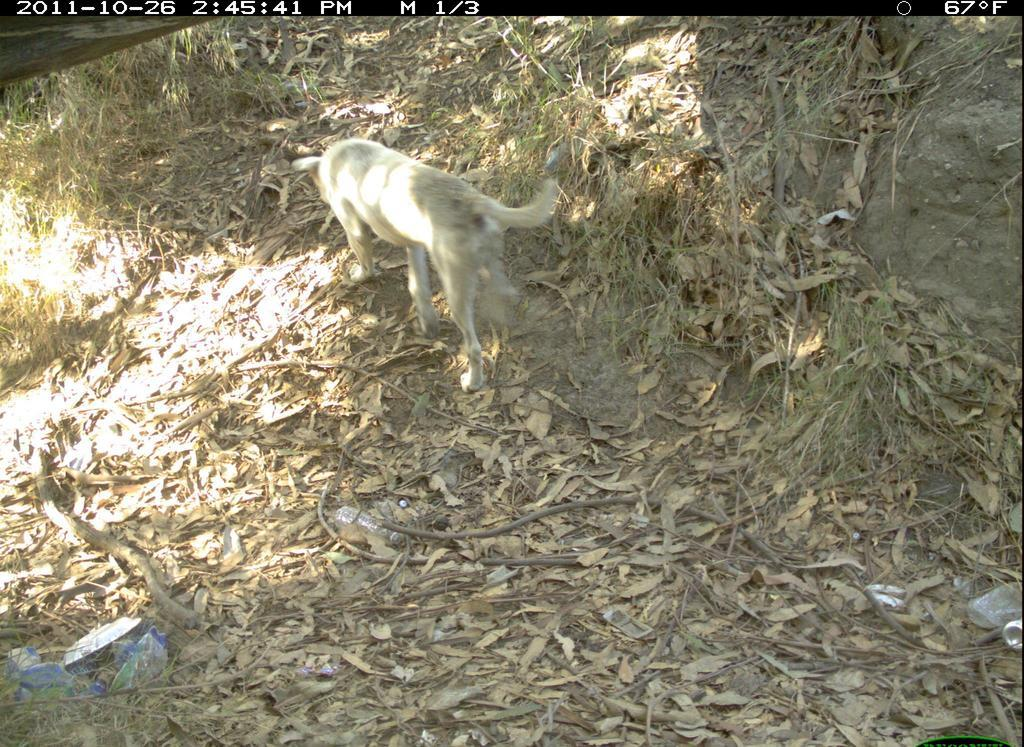dog: (306, 127, 583, 408)
